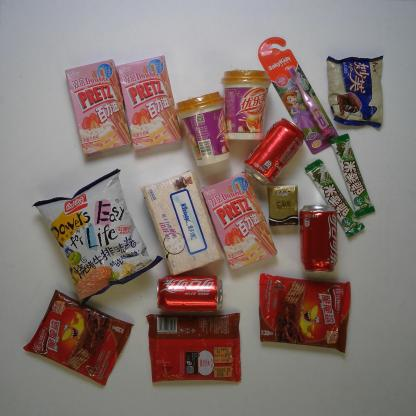Chocolate: (303, 157, 366, 239), (328, 132, 376, 219)
Dessert: (21, 287, 135, 388), (200, 170, 279, 272), (258, 272, 352, 354), (143, 311, 244, 385), (62, 56, 132, 159), (115, 54, 184, 153), (324, 52, 384, 130)
Drink: (242, 115, 307, 188), (154, 273, 226, 316), (297, 202, 339, 273)
Instant Drink: (173, 89, 233, 168), (220, 67, 273, 142)
Personal Hygiene: (256, 34, 340, 156)
Puffed Food: (31, 166, 165, 308)
Tissue: (139, 167, 226, 279), (265, 182, 300, 228)
